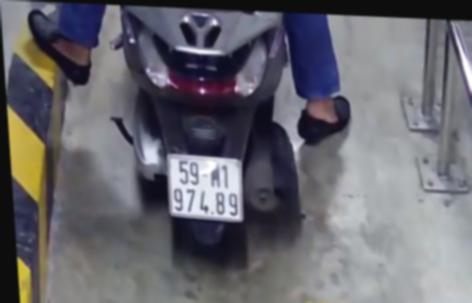License_Plate: (160, 148, 253, 223)
